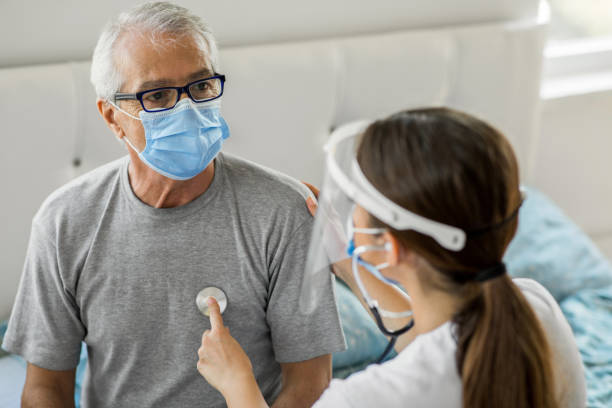with mask: (94, 16, 233, 177)
